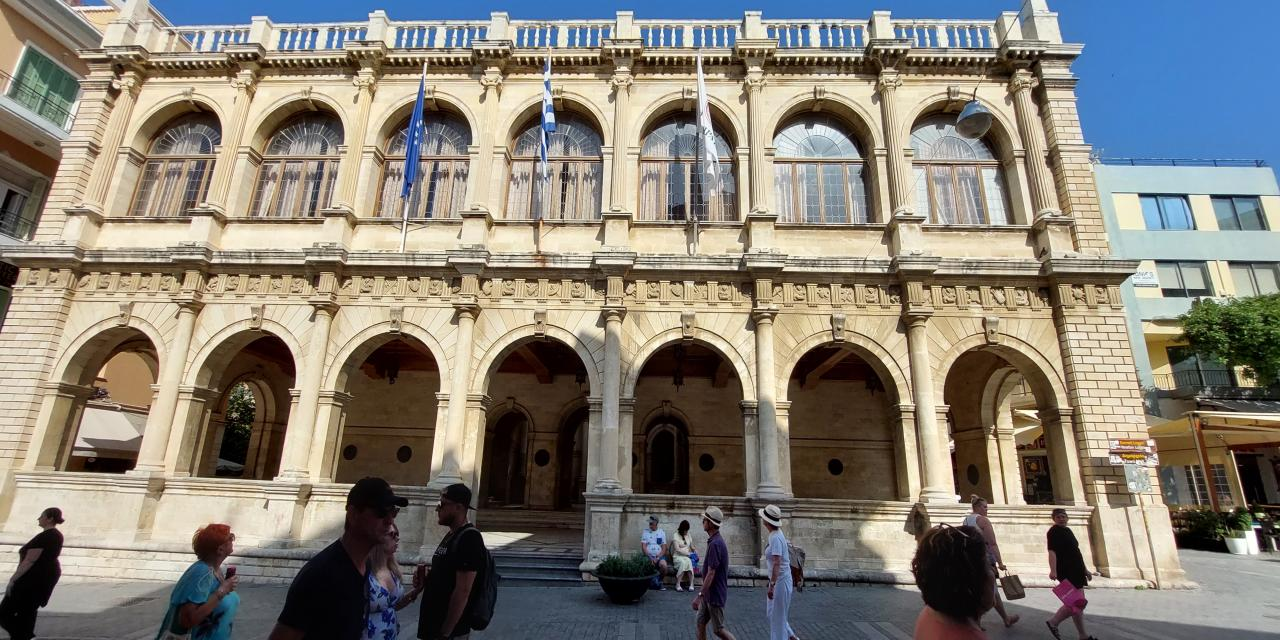Loggia: (1, 1, 1206, 594)
